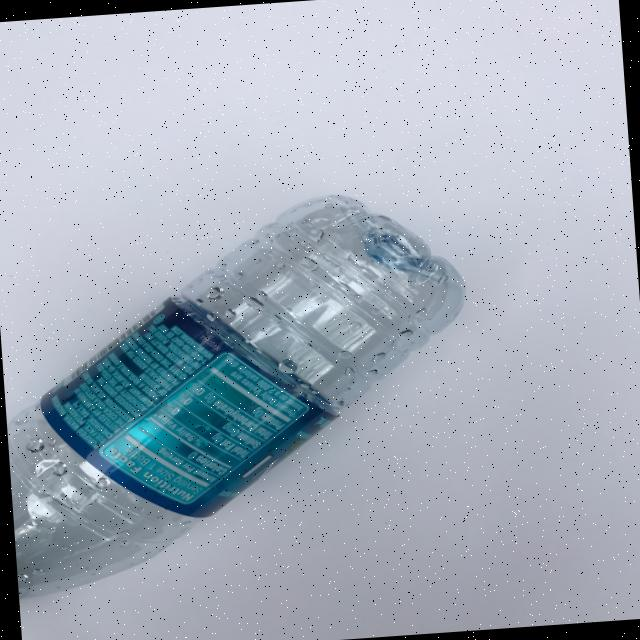plastic: (0, 184, 486, 599)
